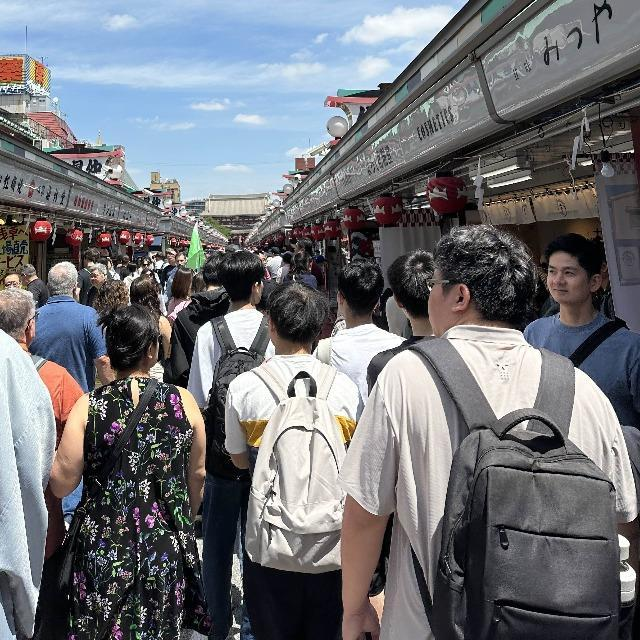NoHelmet: (424, 225, 543, 332), (546, 230, 608, 310)
